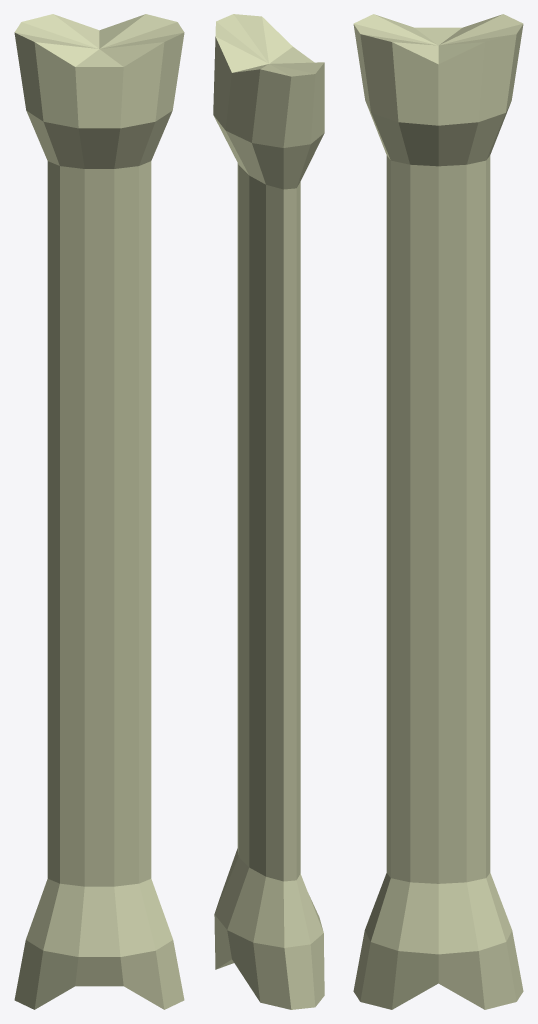
File: Long_bones.fbx
The picture shows the model from 3 angles, left to right: view 1: azimuth 90°, elevation 25°; view 2: azimuth 210°, elevation 25°; view 3: azimuth 270°, elevation 25°; orthographic projection. The views are drawn at different scales.
Parts seen in each view (by area): view 1: bone1; view 2: bone1; view 3: bone1.
Part boxes in pixels (<box>): bone1: <box>14,14,184,1009</box>; bone1: <box>213,14,324,1009</box>; bone1: <box>353,14,523,1009</box>.
Bounding box in the file's own units: 4.09 × 42.64 × 6.79.
